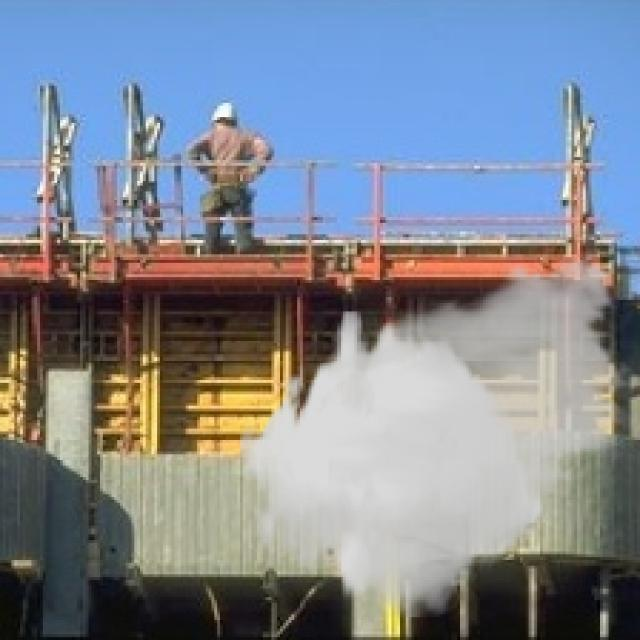Smoke: (237, 240, 637, 617)
